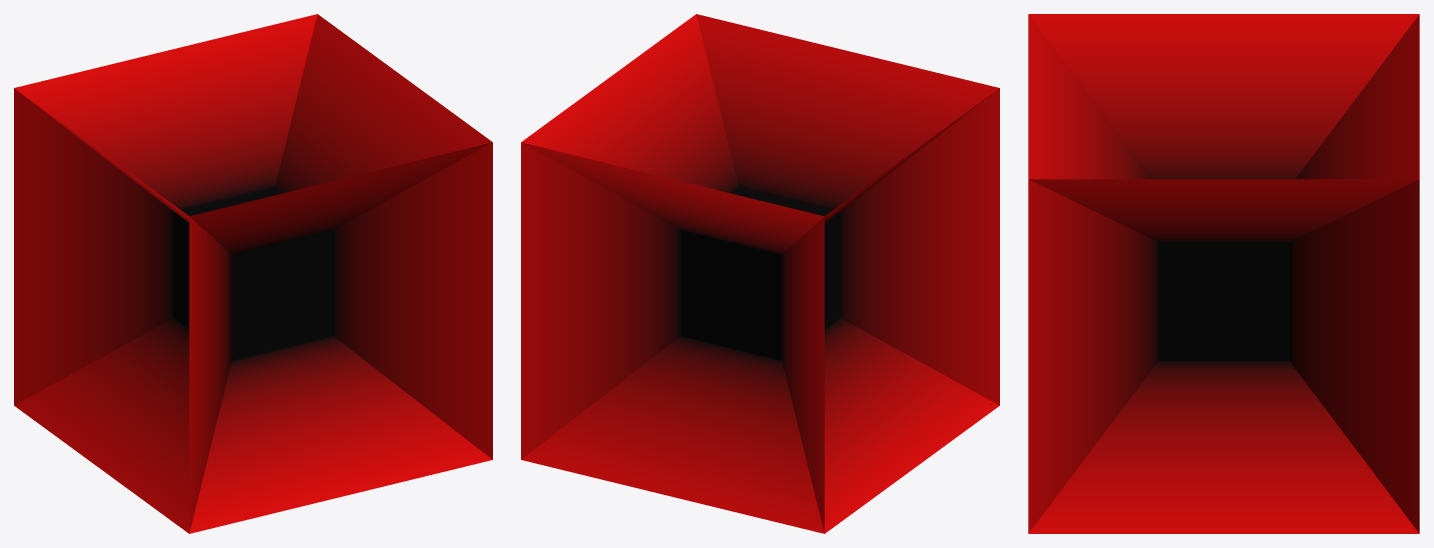
Rendered from tesseract_red_test_5.glb.
The picture shows the model from 3 angles, left to right: view 1: azimuth 30°, elevation 25°; view 2: azimuth 150°, elevation 25°; view 3: azimuth 270°, elevation 25°; orthographic projection. The views are drawn at different scales.
Visible parts, largest first — view 1: Cube; view 2: Cube; view 3: Cube.
Boxes of the visible parts, bbox=[...] form: Cube: bbox=[14, 14, 492, 533]; Cube: bbox=[521, 14, 999, 533]; Cube: bbox=[1028, 14, 1419, 533].
Bounding box in the file's own units: 2 × 2 × 2.
